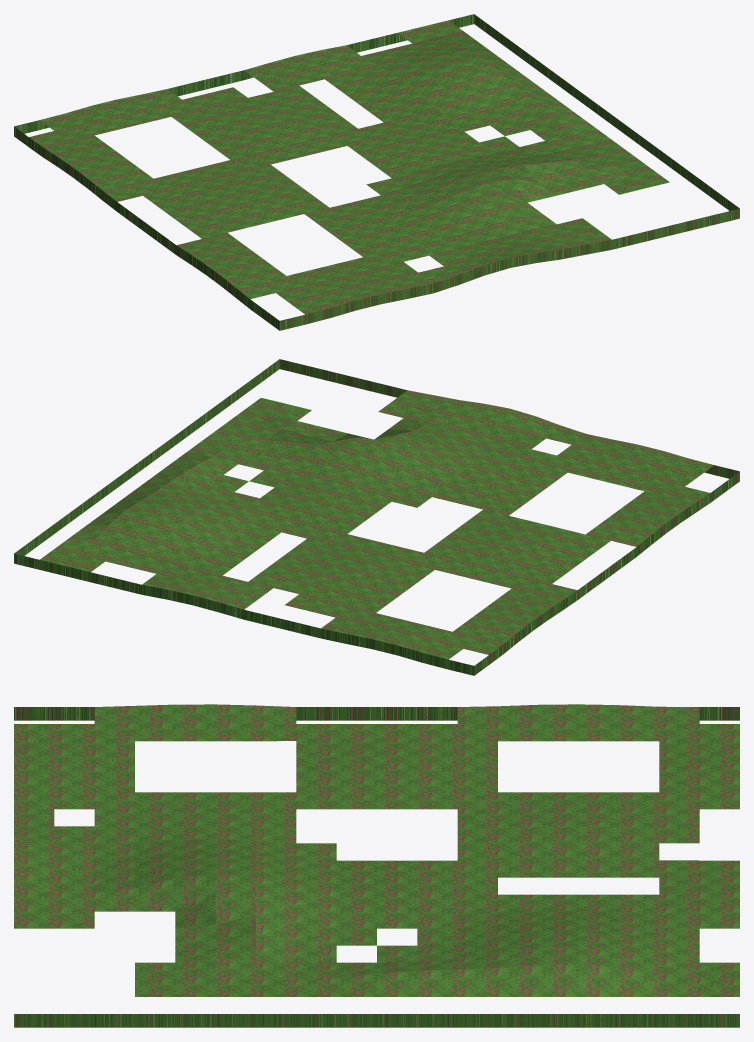
The model's file is rv_terrain_11.gltf.
The picture shows the model from 3 angles, top to bottom: view 1: azimuth 30°, elevation 25°; view 2: azimuth 150°, elevation 25°; view 3: azimuth 270°, elevation 25°; orthographic projection. The views are drawn at different scales.
Parts seen in each view (by area): view 1: RV_Terrain_11; view 2: RV_Terrain_11; view 3: RV_Terrain_11.
Boxes of the visible parts, bbox=[...] form: RV_Terrain_11: bbox=[14, 14, 739, 330]; RV_Terrain_11: bbox=[14, 359, 739, 675]; RV_Terrain_11: bbox=[14, 704, 739, 1027].
Size of the model in its own units: 72 by 3.73 by 72.
2 materials, 1 textured.
